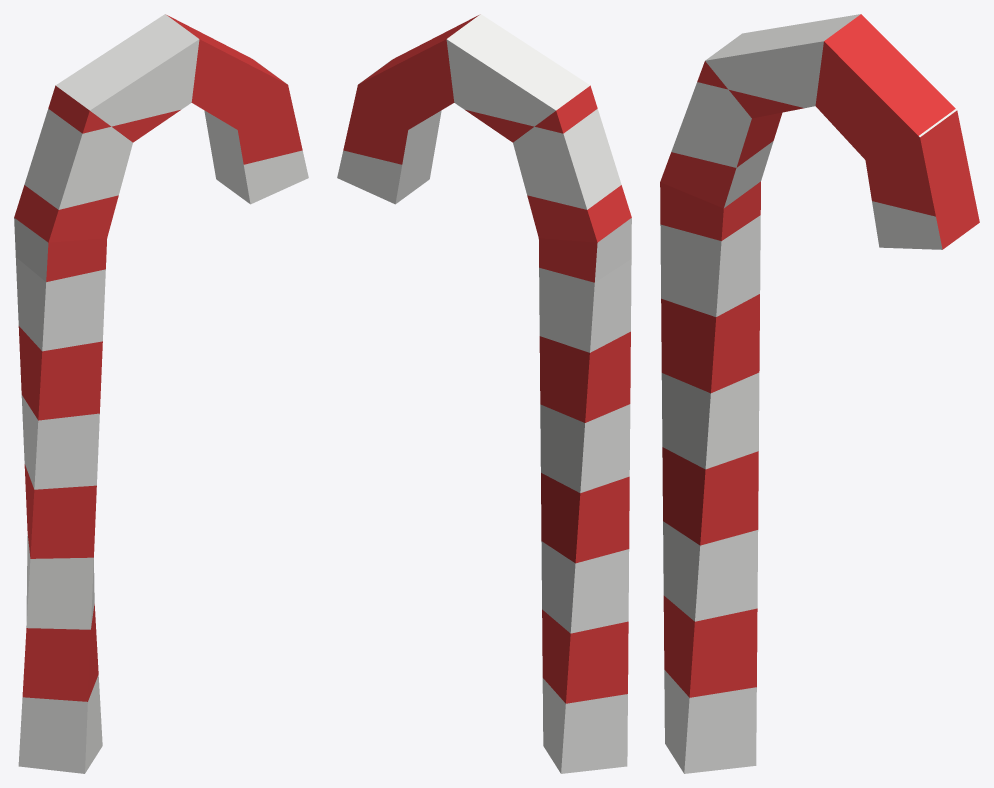
File: CandyCane.fbx
3 views of the same model, side by side, from view 1: azimuth 30°, elevation 25°; view 2: azimuth 150°, elevation 25°; view 3: azimuth 330°, elevation 25° (orthographic). The views are drawn at different scales.
Visible parts, largest first — view 1: CandyCane; view 2: CandyCane; view 3: CandyCane.
Part boxes in pixels (x1,y1,x2,y2): CandyCane: (14,14,308,773); CandyCane: (337,14,631,773); CandyCane: (660,14,979,773).
Bounding box in the file's own units: 0.8117 × 1.99 × 0.25.
1 material, 1 textured.
